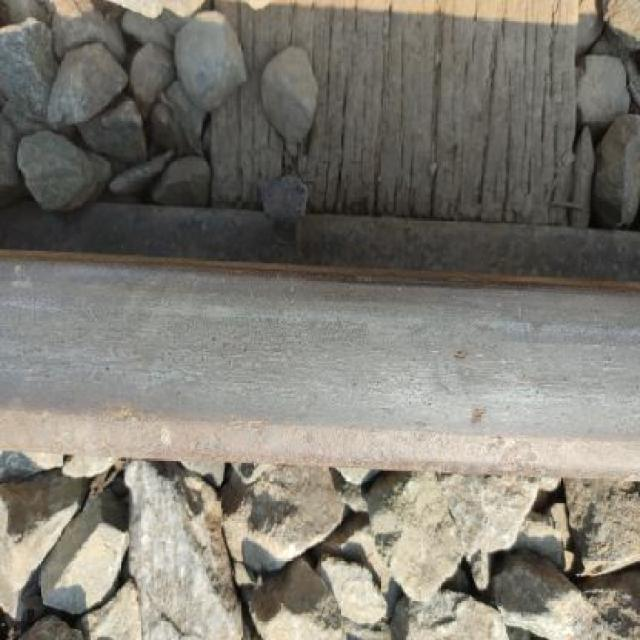non-defective: (0, 238, 638, 483)
